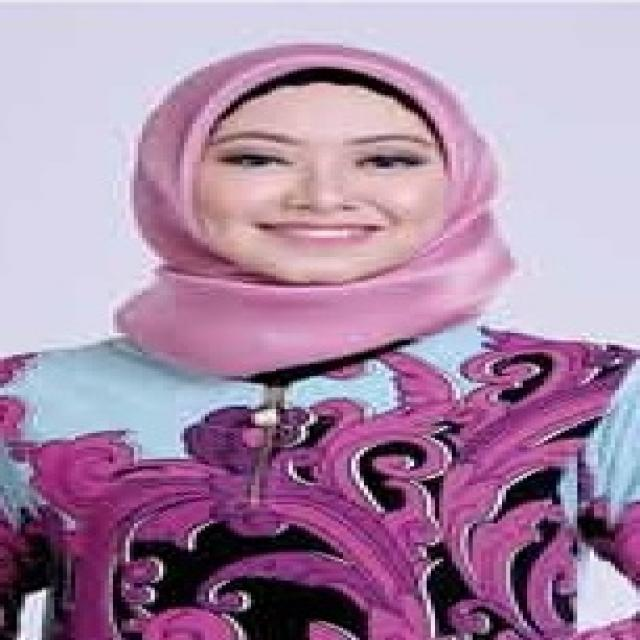head: (137, 34, 474, 291)
